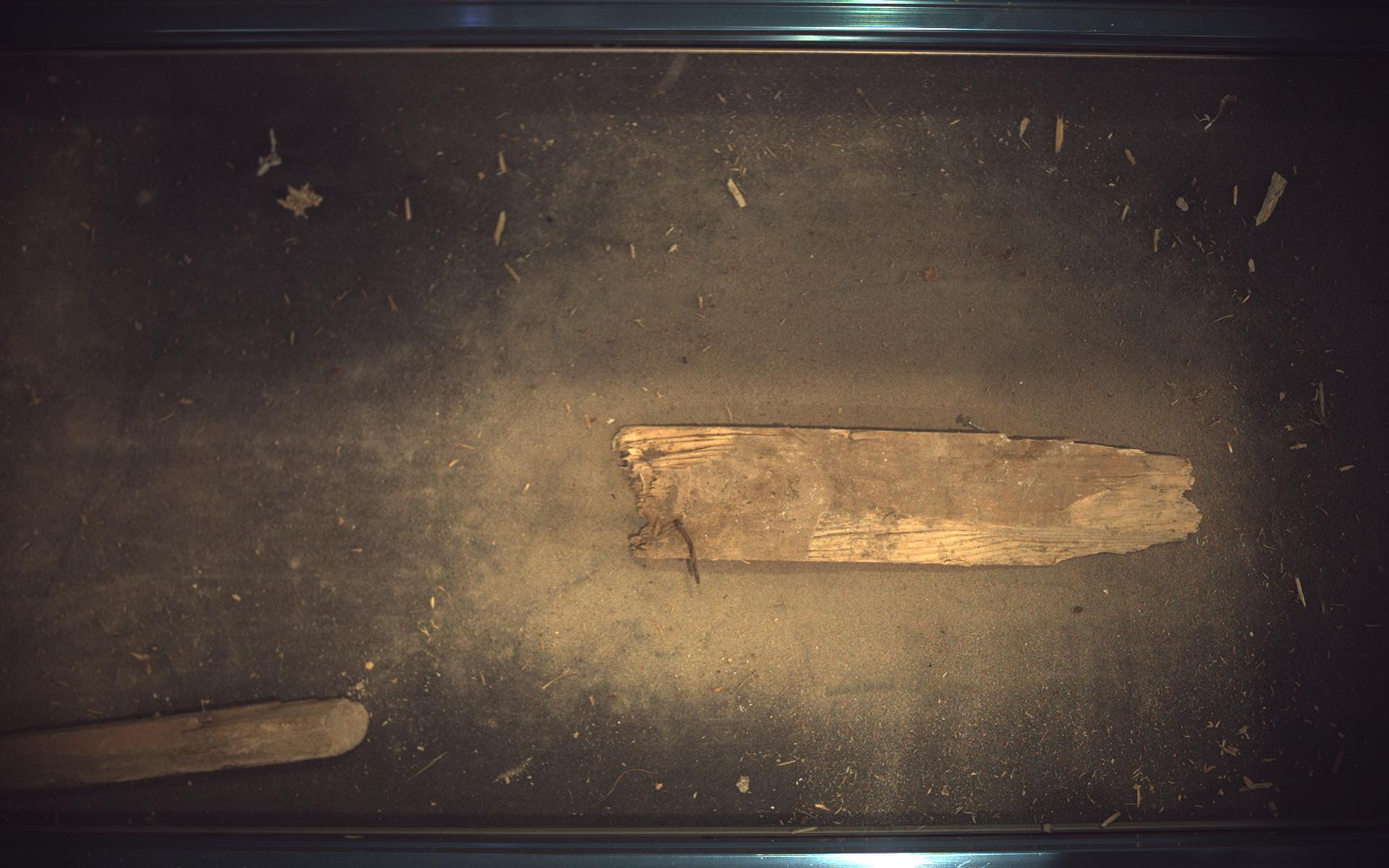wood: (615, 425, 1204, 584), (1, 700, 369, 794)
